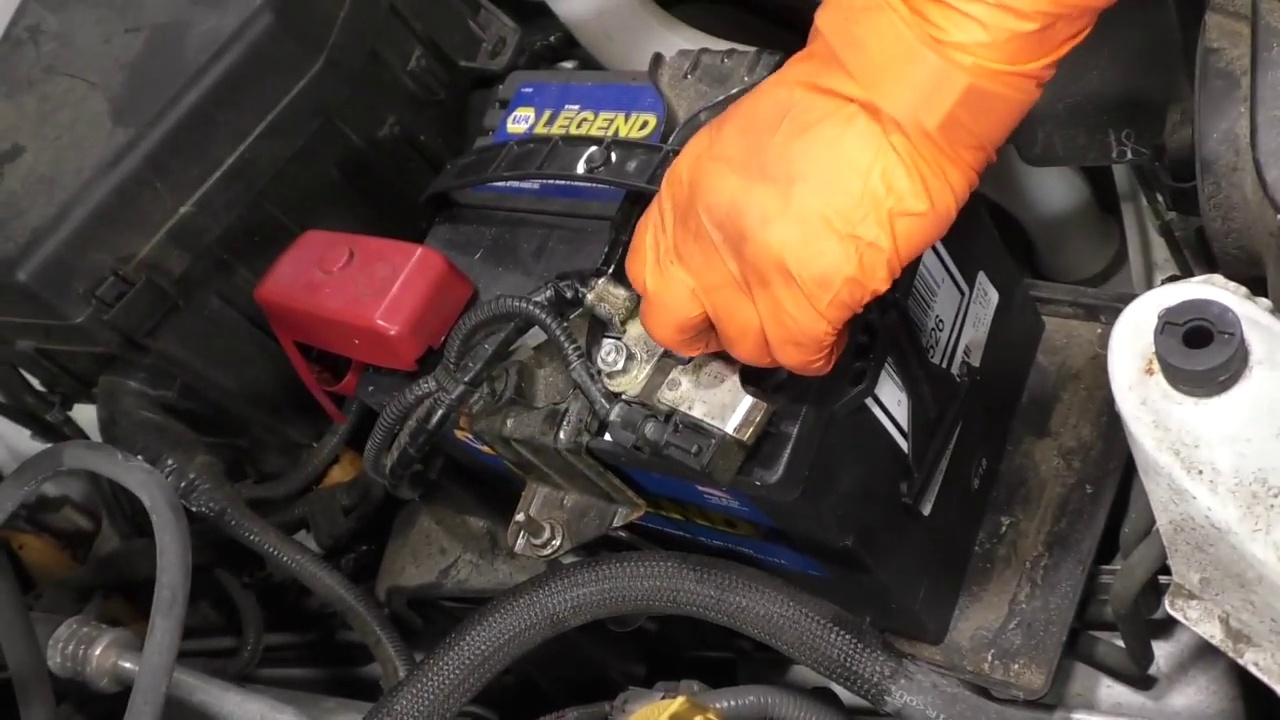battery: (339, 72, 928, 485)
pos_connected: (240, 211, 486, 432)
